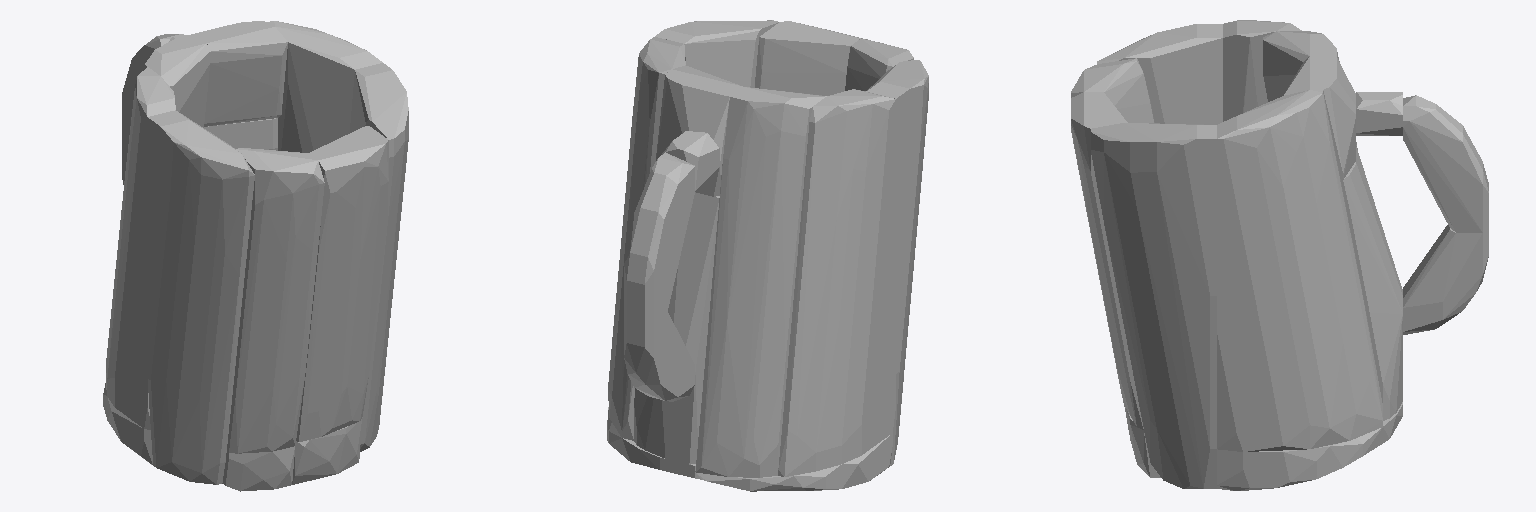
robot.urdf — root:
<robot name="root">
  <link name="link_dcec634f18e12427c2c72e575af174cd_convex_piece_0">
    <inertial>
      <origin rpy="0 0 0" xyz="0 0 0"/>
      <mass value="1.44E-07"/>
      <inertia ixx="4.86E-11" ixy="7.76E-13" ixz="-1.61E-13" iyy="2.53E-12" iyz="-6.36E-12" izz="4.65E-11"/>
    </inertial>
    <visual>
      <origin rpy="0 0 0" xyz="0 0 0"/>
      <geometry>
        <mesh filename="dcec634f18e12427c2c72e575af174cd_convex_piece_0.obj" scale="1.0000E+00"/>
      </geometry>
      <material name="">
        <color rgba="7.50E-01 7.50E-01 7.50E-01 1"/>
      </material>
    </visual>
    <collision>
      <origin rpy="0 0 0" xyz="0 0 0"/>
      <geometry>
        <mesh filename="dcec634f18e12427c2c72e575af174cd_convex_piece_0.obj" scale="1.0000E+00"/>
      </geometry>
    </collision>
  </link>
  <link name="link_dcec634f18e12427c2c72e575af174cd_convex_piece_1">
    <inertial>
      <origin rpy="0 0 0" xyz="0 0 0"/>
      <mass value="1.64E-07"/>
      <inertia ixx="7.62E-11" ixy="5.94E-13" ixz="4.27E-13" iyy="2.34E-11" iyz="3.22E-11" izz="5.33E-11"/>
    </inertial>
    <visual>
      <origin rpy="0 0 0" xyz="0 0 0"/>
      <geometry>
        <mesh filename="dcec634f18e12427c2c72e575af174cd_convex_piece_1.obj" scale="1.0000E+00"/>
      </geometry>
      <material name="">
        <color rgba="7.50E-01 7.50E-01 7.50E-01 1"/>
      </material>
    </visual>
    <collision>
      <origin rpy="0 0 0" xyz="0 0 0"/>
      <geometry>
        <mesh filename="dcec634f18e12427c2c72e575af174cd_convex_piece_1.obj" scale="1.0000E+00"/>
      </geometry>
    </collision>
  </link>
  <joint name="link_dcec634f18e12427c2c72e575af174cd_convex_piece_1_joint" type="fixed">
    <origin rpy="0 0 0" xyz="0 0 0"/>
    <parent link="link_dcec634f18e12427c2c72e575af174cd_convex_piece_0"/>
    <child link="link_dcec634f18e12427c2c72e575af174cd_convex_piece_1"/>
  </joint>
  <link name="link_dcec634f18e12427c2c72e575af174cd_convex_piece_2">
    <inertial>
      <origin rpy="0 0 0" xyz="0 0 0"/>
      <mass value="8.98E-07"/>
      <inertia ixx="2.29E-10" ixy="1.11E-10" ixz="-2.24E-11" iyy="2.51E-10" iyz="-3.04E-11" izz="2.22E-10"/>
    </inertial>
    <visual>
      <origin rpy="0 0 0" xyz="0 0 0"/>
      <geometry>
        <mesh filename="dcec634f18e12427c2c72e575af174cd_convex_piece_2.obj" scale="1.0000E+00"/>
      </geometry>
      <material name="">
        <color rgba="7.50E-01 7.50E-01 7.50E-01 1"/>
      </material>
    </visual>
    <collision>
      <origin rpy="0 0 0" xyz="0 0 0"/>
      <geometry>
        <mesh filename="dcec634f18e12427c2c72e575af174cd_convex_piece_2.obj" scale="1.0000E+00"/>
      </geometry>
    </collision>
  </link>
  <joint name="link_dcec634f18e12427c2c72e575af174cd_convex_piece_2_joint" type="fixed">
    <origin rpy="0 0 0" xyz="0 0 0"/>
    <parent link="link_dcec634f18e12427c2c72e575af174cd_convex_piece_1"/>
    <child link="link_dcec634f18e12427c2c72e575af174cd_convex_piece_2"/>
  </joint>
  <link name="link_dcec634f18e12427c2c72e575af174cd_convex_piece_3">
    <inertial>
      <origin rpy="0 0 0" xyz="0 0 0"/>
      <mass value="3.14E-07"/>
      <inertia ixx="1.19E-10" ixy="-1.77E-12" ixz="4.87E-11" iyy="1.41E-10" iyz="-7.18E-12" izz="2.76E-11"/>
    </inertial>
    <visual>
      <origin rpy="0 0 0" xyz="0 0 0"/>
      <geometry>
        <mesh filename="dcec634f18e12427c2c72e575af174cd_convex_piece_3.obj" scale="1.0000E+00"/>
      </geometry>
      <material name="">
        <color rgba="7.50E-01 7.50E-01 7.50E-01 1"/>
      </material>
    </visual>
    <collision>
      <origin rpy="0 0 0" xyz="0 0 0"/>
      <geometry>
        <mesh filename="dcec634f18e12427c2c72e575af174cd_convex_piece_3.obj" scale="1.0000E+00"/>
      </geometry>
    </collision>
  </link>
  <joint name="link_dcec634f18e12427c2c72e575af174cd_convex_piece_3_joint" type="fixed">
    <origin rpy="0 0 0" xyz="0 0 0"/>
    <parent link="link_dcec634f18e12427c2c72e575af174cd_convex_piece_2"/>
    <child link="link_dcec634f18e12427c2c72e575af174cd_convex_piece_3"/>
  </joint>
  <link name="link_dcec634f18e12427c2c72e575af174cd_convex_piece_4">
    <inertial>
      <origin rpy="0 0 0" xyz="0 0 0"/>
      <mass value="1.05E-06"/>
      <inertia ixx="2.86E-10" ixy="-1.30E-10" ixz="2.20E-11" iyy="2.77E-10" iyz="-3.31E-11" izz="2.64E-10"/>
    </inertial>
    <visual>
      <origin rpy="0 0 0" xyz="0 0 0"/>
      <geometry>
        <mesh filename="dcec634f18e12427c2c72e575af174cd_convex_piece_4.obj" scale="1.0000E+00"/>
      </geometry>
      <material name="">
        <color rgba="7.50E-01 7.50E-01 7.50E-01 1"/>
      </material>
    </visual>
    <collision>
      <origin rpy="0 0 0" xyz="0 0 0"/>
      <geometry>
        <mesh filename="dcec634f18e12427c2c72e575af174cd_convex_piece_4.obj" scale="1.0000E+00"/>
      </geometry>
    </collision>
  </link>
  <joint name="link_dcec634f18e12427c2c72e575af174cd_convex_piece_4_joint" type="fixed">
    <origin rpy="0 0 0" xyz="0 0 0"/>
    <parent link="link_dcec634f18e12427c2c72e575af174cd_convex_piece_3"/>
    <child link="link_dcec634f18e12427c2c72e575af174cd_convex_piece_4"/>
  </joint>
  <link name="link_dcec634f18e12427c2c72e575af174cd_convex_piece_5">
    <inertial>
      <origin rpy="0 0 0" xyz="0 0 0"/>
      <mass value="5.14E-07"/>
      <inertia ixx="1.91E-10" ixy="1.56E-12" ixz="-6.32E-11" iyy="2.16E-10" iyz="-1.27E-11" izz="3.98E-11"/>
    </inertial>
    <visual>
      <origin rpy="0 0 0" xyz="0 0 0"/>
      <geometry>
        <mesh filename="dcec634f18e12427c2c72e575af174cd_convex_piece_5.obj" scale="1.0000E+00"/>
      </geometry>
      <material name="">
        <color rgba="7.50E-01 7.50E-01 7.50E-01 1"/>
      </material>
    </visual>
    <collision>
      <origin rpy="0 0 0" xyz="0 0 0"/>
      <geometry>
        <mesh filename="dcec634f18e12427c2c72e575af174cd_convex_piece_5.obj" scale="1.0000E+00"/>
      </geometry>
    </collision>
  </link>
  <joint name="link_dcec634f18e12427c2c72e575af174cd_convex_piece_5_joint" type="fixed">
    <origin rpy="0 0 0" xyz="0 0 0"/>
    <parent link="link_dcec634f18e12427c2c72e575af174cd_convex_piece_4"/>
    <child link="link_dcec634f18e12427c2c72e575af174cd_convex_piece_5"/>
  </joint>
  <link name="link_dcec634f18e12427c2c72e575af174cd_convex_piece_6">
    <inertial>
      <origin rpy="0 0 0" xyz="0 0 0"/>
      <mass value="1.36E-07"/>
      <inertia ixx="7.49E-11" ixy="8.01E-12" ixz="1.46E-11" iyy="6.24E-11" iyz="3.18E-11" izz="2.10E-11"/>
    </inertial>
    <visual>
      <origin rpy="0 0 0" xyz="0 0 0"/>
      <geometry>
        <mesh filename="dcec634f18e12427c2c72e575af174cd_convex_piece_6.obj" scale="1.0000E+00"/>
      </geometry>
      <material name="">
        <color rgba="7.50E-01 7.50E-01 7.50E-01 1"/>
      </material>
    </visual>
    <collision>
      <origin rpy="0 0 0" xyz="0 0 0"/>
      <geometry>
        <mesh filename="dcec634f18e12427c2c72e575af174cd_convex_piece_6.obj" scale="1.0000E+00"/>
      </geometry>
    </collision>
  </link>
  <joint name="link_dcec634f18e12427c2c72e575af174cd_convex_piece_6_joint" type="fixed">
    <origin rpy="0 0 0" xyz="0 0 0"/>
    <parent link="link_dcec634f18e12427c2c72e575af174cd_convex_piece_5"/>
    <child link="link_dcec634f18e12427c2c72e575af174cd_convex_piece_6"/>
  </joint>
  <link name="link_dcec634f18e12427c2c72e575af174cd_convex_piece_7">
    <inertial>
      <origin rpy="0 0 0" xyz="0 0 0"/>
      <mass value="7.62E-07"/>
      <inertia ixx="2.82E-10" ixy="6.74E-11" ixz="-1.92E-12" iyy="1.13E-10" iyz="-2.17E-11" izz="2.22E-10"/>
    </inertial>
    <visual>
      <origin rpy="0 0 0" xyz="0 0 0"/>
      <geometry>
        <mesh filename="dcec634f18e12427c2c72e575af174cd_convex_piece_7.obj" scale="1.0000E+00"/>
      </geometry>
      <material name="">
        <color rgba="7.50E-01 7.50E-01 7.50E-01 1"/>
      </material>
    </visual>
    <collision>
      <origin rpy="0 0 0" xyz="0 0 0"/>
      <geometry>
        <mesh filename="dcec634f18e12427c2c72e575af174cd_convex_piece_7.obj" scale="1.0000E+00"/>
      </geometry>
    </collision>
  </link>
  <joint name="link_dcec634f18e12427c2c72e575af174cd_convex_piece_7_joint" type="fixed">
    <origin rpy="0 0 0" xyz="0 0 0"/>
    <parent link="link_dcec634f18e12427c2c72e575af174cd_convex_piece_6"/>
    <child link="link_dcec634f18e12427c2c72e575af174cd_convex_piece_7"/>
  </joint>
  <link name="link_dcec634f18e12427c2c72e575af174cd_convex_piece_8">
    <inertial>
      <origin rpy="0 0 0" xyz="0 0 0"/>
      <mass value="9.49E-07"/>
      <inertia ixx="1.15E-10" ixy="7.56E-12" ixz="3.37E-13" iyy="2.55E-10" iyz="-1.14E-11" izz="1.37E-10"/>
    </inertial>
    <visual>
      <origin rpy="0 0 0" xyz="0 0 0"/>
      <geometry>
        <mesh filename="dcec634f18e12427c2c72e575af174cd_convex_piece_8.obj" scale="1.0000E+00"/>
      </geometry>
      <material name="">
        <color rgba="7.50E-01 7.50E-01 7.50E-01 1"/>
      </material>
    </visual>
    <collision>
      <origin rpy="0 0 0" xyz="0 0 0"/>
      <geometry>
        <mesh filename="dcec634f18e12427c2c72e575af174cd_convex_piece_8.obj" scale="1.0000E+00"/>
      </geometry>
    </collision>
  </link>
  <joint name="link_dcec634f18e12427c2c72e575af174cd_convex_piece_8_joint" type="fixed">
    <origin rpy="0 0 0" xyz="0 0 0"/>
    <parent link="link_dcec634f18e12427c2c72e575af174cd_convex_piece_7"/>
    <child link="link_dcec634f18e12427c2c72e575af174cd_convex_piece_8"/>
  </joint>
  <link name="link_dcec634f18e12427c2c72e575af174cd_convex_piece_9">
    <inertial>
      <origin rpy="0 0 0" xyz="0 0 0"/>
      <mass value="9.55E-07"/>
      <inertia ixx="1.62E-10" ixy="-3.14E-11" ixz="-1.49E-11" iyy="1.72E-10" iyz="-8.57E-12" izz="6.67E-11"/>
    </inertial>
    <visual>
      <origin rpy="0 0 0" xyz="0 0 0"/>
      <geometry>
        <mesh filename="dcec634f18e12427c2c72e575af174cd_convex_piece_9.obj" scale="1.0000E+00"/>
      </geometry>
      <material name="">
        <color rgba="7.50E-01 7.50E-01 7.50E-01 1"/>
      </material>
    </visual>
    <collision>
      <origin rpy="0 0 0" xyz="0 0 0"/>
      <geometry>
        <mesh filename="dcec634f18e12427c2c72e575af174cd_convex_piece_9.obj" scale="1.0000E+00"/>
      </geometry>
    </collision>
  </link>
  <joint name="link_dcec634f18e12427c2c72e575af174cd_convex_piece_9_joint" type="fixed">
    <origin rpy="0 0 0" xyz="0 0 0"/>
    <parent link="link_dcec634f18e12427c2c72e575af174cd_convex_piece_8"/>
    <child link="link_dcec634f18e12427c2c72e575af174cd_convex_piece_9"/>
  </joint>
  <link name="link_dcec634f18e12427c2c72e575af174cd_convex_piece_10">
    <inertial>
      <origin rpy="0 0 0" xyz="0 0 0"/>
      <mass value="2.01E-07"/>
      <inertia ixx="1.12E-10" ixy="-6.83E-12" ixz="-1.17E-11" iyy="8.68E-11" iyz="4.92E-11" izz="3.10E-11"/>
    </inertial>
    <visual>
      <origin rpy="0 0 0" xyz="0 0 0"/>
      <geometry>
        <mesh filename="dcec634f18e12427c2c72e575af174cd_convex_piece_10.obj" scale="1.0000E+00"/>
      </geometry>
      <material name="">
        <color rgba="7.50E-01 7.50E-01 7.50E-01 1"/>
      </material>
    </visual>
    <collision>
      <origin rpy="0 0 0" xyz="0 0 0"/>
      <geometry>
        <mesh filename="dcec634f18e12427c2c72e575af174cd_convex_piece_10.obj" scale="1.0000E+00"/>
      </geometry>
    </collision>
  </link>
  <joint name="link_dcec634f18e12427c2c72e575af174cd_convex_piece_10_joint" type="fixed">
    <origin rpy="0 0 0" xyz="0 0 0"/>
    <parent link="link_dcec634f18e12427c2c72e575af174cd_convex_piece_9"/>
    <child link="link_dcec634f18e12427c2c72e575af174cd_convex_piece_10"/>
  </joint>
  <link name="link_dcec634f18e12427c2c72e575af174cd_convex_piece_11">
    <inertial>
      <origin rpy="0 0 0" xyz="0 0 0"/>
      <mass value="9.13E-07"/>
      <inertia ixx="3.55E-10" ixy="-4.77E-11" ixz="2.14E-12" iyy="1.14E-10" iyz="-2.98E-11" izz="2.73E-10"/>
    </inertial>
    <visual>
      <origin rpy="0 0 0" xyz="0 0 0"/>
      <geometry>
        <mesh filename="dcec634f18e12427c2c72e575af174cd_convex_piece_11.obj" scale="1.0000E+00"/>
      </geometry>
      <material name="">
        <color rgba="7.50E-01 7.50E-01 7.50E-01 1"/>
      </material>
    </visual>
    <collision>
      <origin rpy="0 0 0" xyz="0 0 0"/>
      <geometry>
        <mesh filename="dcec634f18e12427c2c72e575af174cd_convex_piece_11.obj" scale="1.0000E+00"/>
      </geometry>
    </collision>
  </link>
  <joint name="link_dcec634f18e12427c2c72e575af174cd_convex_piece_11_joint" type="fixed">
    <origin rpy="0 0 0" xyz="0 0 0"/>
    <parent link="link_dcec634f18e12427c2c72e575af174cd_convex_piece_10"/>
    <child link="link_dcec634f18e12427c2c72e575af174cd_convex_piece_11"/>
  </joint>
  <link name="link_dcec634f18e12427c2c72e575af174cd_convex_piece_12">
    <inertial>
      <origin rpy="0 0 0" xyz="0 0 0"/>
      <mass value="1.50E-06"/>
      <inertia ixx="1.85E-10" ixy="-1.12E-12" ixz="1.25E-11" iyy="3.67E-10" iyz="-1.73E-11" izz="1.89E-10"/>
    </inertial>
    <visual>
      <origin rpy="0 0 0" xyz="0 0 0"/>
      <geometry>
        <mesh filename="dcec634f18e12427c2c72e575af174cd_convex_piece_12.obj" scale="1.0000E+00"/>
      </geometry>
      <material name="">
        <color rgba="7.50E-01 7.50E-01 7.50E-01 1"/>
      </material>
    </visual>
    <collision>
      <origin rpy="0 0 0" xyz="0 0 0"/>
      <geometry>
        <mesh filename="dcec634f18e12427c2c72e575af174cd_convex_piece_12.obj" scale="1.0000E+00"/>
      </geometry>
    </collision>
  </link>
  <joint name="link_dcec634f18e12427c2c72e575af174cd_convex_piece_12_joint" type="fixed">
    <origin rpy="0 0 0" xyz="0 0 0"/>
    <parent link="link_dcec634f18e12427c2c72e575af174cd_convex_piece_11"/>
    <child link="link_dcec634f18e12427c2c72e575af174cd_convex_piece_12"/>
  </joint>
  <link name="link_dcec634f18e12427c2c72e575af174cd_convex_piece_13">
    <inertial>
      <origin rpy="0 0 0" xyz="0 0 0"/>
      <mass value="7.38E-07"/>
      <inertia ixx="9.84E-11" ixy="1.54E-11" ixz="-4.38E-12" iyy="6.10E-11" iyz="-2.46E-11" izz="5.65E-11"/>
    </inertial>
    <visual>
      <origin rpy="0 0 0" xyz="0 0 0"/>
      <geometry>
        <mesh filename="dcec634f18e12427c2c72e575af174cd_convex_piece_13.obj" scale="1.0000E+00"/>
      </geometry>
      <material name="">
        <color rgba="7.50E-01 7.50E-01 7.50E-01 1"/>
      </material>
    </visual>
    <collision>
      <origin rpy="0 0 0" xyz="0 0 0"/>
      <geometry>
        <mesh filename="dcec634f18e12427c2c72e575af174cd_convex_piece_13.obj" scale="1.0000E+00"/>
      </geometry>
    </collision>
  </link>
  <joint name="link_dcec634f18e12427c2c72e575af174cd_convex_piece_13_joint" type="fixed">
    <origin rpy="0 0 0" xyz="0 0 0"/>
    <parent link="link_dcec634f18e12427c2c72e575af174cd_convex_piece_12"/>
    <child link="link_dcec634f18e12427c2c72e575af174cd_convex_piece_13"/>
  </joint>
  <link name="link_dcec634f18e12427c2c72e575af174cd_convex_piece_14">
    <inertial>
      <origin rpy="0 0 0" xyz="0 0 0"/>
      <mass value="2.53E-07"/>
      <inertia ixx="8.50E-11" ixy="2.93E-12" ixz="1.21E-11" iyy="8.54E-11" iyz="2.06E-11" izz="6.29E-12"/>
    </inertial>
    <visual>
      <origin rpy="0 0 0" xyz="0 0 0"/>
      <geometry>
        <mesh filename="dcec634f18e12427c2c72e575af174cd_convex_piece_14.obj" scale="1.0000E+00"/>
      </geometry>
      <material name="">
        <color rgba="7.50E-01 7.50E-01 7.50E-01 1"/>
      </material>
    </visual>
    <collision>
      <origin rpy="0 0 0" xyz="0 0 0"/>
      <geometry>
        <mesh filename="dcec634f18e12427c2c72e575af174cd_convex_piece_14.obj" scale="1.0000E+00"/>
      </geometry>
    </collision>
  </link>
  <joint name="link_dcec634f18e12427c2c72e575af174cd_convex_piece_14_joint" type="fixed">
    <origin rpy="0 0 0" xyz="0 0 0"/>
    <parent link="link_dcec634f18e12427c2c72e575af174cd_convex_piece_13"/>
    <child link="link_dcec634f18e12427c2c72e575af174cd_convex_piece_14"/>
  </joint>
  <link name="link_dcec634f18e12427c2c72e575af174cd_convex_piece_15">
    <inertial>
      <origin rpy="0 0 0" xyz="0 0 0"/>
      <mass value="4.33E-08"/>
      <inertia ixx="1.77E-11" ixy="2.12E-13" ixz="3.42E-13" iyy="1.32E-11" iyz="8.11E-12" izz="4.69E-12"/>
    </inertial>
    <visual>
      <origin rpy="0 0 0" xyz="0 0 0"/>
      <geometry>
        <mesh filename="dcec634f18e12427c2c72e575af174cd_convex_piece_15.obj" scale="1.0000E+00"/>
      </geometry>
      <material name="">
        <color rgba="7.50E-01 7.50E-01 7.50E-01 1"/>
      </material>
    </visual>
    <collision>
      <origin rpy="0 0 0" xyz="0 0 0"/>
      <geometry>
        <mesh filename="dcec634f18e12427c2c72e575af174cd_convex_piece_15.obj" scale="1.0000E+00"/>
      </geometry>
    </collision>
  </link>
  <joint name="link_dcec634f18e12427c2c72e575af174cd_convex_piece_15_joint" type="fixed">
    <origin rpy="0 0 0" xyz="0 0 0"/>
    <parent link="link_dcec634f18e12427c2c72e575af174cd_convex_piece_14"/>
    <child link="link_dcec634f18e12427c2c72e575af174cd_convex_piece_15"/>
  </joint>
</robot>

--- What the picture shows (computed from the rendered views, not written in the file) ---
Views: 3 orthographic renders of the robot side by side, from view 1: azimuth 30°, elevation 25°; view 2: azimuth 150°, elevation 25°; view 3: azimuth 270°, elevation 25°.
Model root with 16 links and 15 joints (15 fixed), rooted at link_dcec634f18e12427c2c72e575af174cd_convex_piece_0, posed all joints at 0.
Visible links, largest first — view 1: link_dcec634f18e12427c2c72e575af174cd_convex_piece_2, link_dcec634f18e12427c2c72e575af174cd_convex_piece_7, link_dcec634f18e12427c2c72e575af174cd_convex_piece_11, link_dcec634f18e12427c2c72e575af174cd_convex_piece_8, link_dcec634f18e12427c2c72e575af174cd_convex_piece_12, link_dcec634f18e12427c2c72e575af174cd_convex_piece_4, link_dcec634f18e12427c2c72e575af174cd_convex_piece_14, link_dcec634f18e12427c2c72e575af174cd_convex_piece_9, link_dcec634f18e12427c2c72e575af174cd_convex_piece_10, link_dcec634f18e12427c2c72e575af174cd_convex_piece_6, link_dcec634f18e12427c2c72e575af174cd_convex_piece_13, link_dcec634f18e12427c2c72e575af174cd_convex_piece_3 (+1 smaller); view 2: link_dcec634f18e12427c2c72e575af174cd_convex_piece_8, link_dcec634f18e12427c2c72e575af174cd_convex_piece_9, link_dcec634f18e12427c2c72e575af174cd_convex_piece_13, link_dcec634f18e12427c2c72e575af174cd_convex_piece_1, link_dcec634f18e12427c2c72e575af174cd_convex_piece_2, link_dcec634f18e12427c2c72e575af174cd_convex_piece_12, link_dcec634f18e12427c2c72e575af174cd_convex_piece_11, link_dcec634f18e12427c2c72e575af174cd_convex_piece_14, link_dcec634f18e12427c2c72e575af174cd_convex_piece_0, link_dcec634f18e12427c2c72e575af174cd_convex_piece_4, link_dcec634f18e12427c2c72e575af174cd_convex_piece_3, link_dcec634f18e12427c2c72e575af174cd_convex_piece_7 (+2 smaller); view 3: link_dcec634f18e12427c2c72e575af174cd_convex_piece_12, link_dcec634f18e12427c2c72e575af174cd_convex_piece_4, link_dcec634f18e12427c2c72e575af174cd_convex_piece_2, link_dcec634f18e12427c2c72e575af174cd_convex_piece_13, link_dcec634f18e12427c2c72e575af174cd_convex_piece_1, link_dcec634f18e12427c2c72e575af174cd_convex_piece_11, link_dcec634f18e12427c2c72e575af174cd_convex_piece_0, link_dcec634f18e12427c2c72e575af174cd_convex_piece_5, link_dcec634f18e12427c2c72e575af174cd_convex_piece_8, link_dcec634f18e12427c2c72e575af174cd_convex_piece_14, link_dcec634f18e12427c2c72e575af174cd_convex_piece_7, link_dcec634f18e12427c2c72e575af174cd_convex_piece_9 (+2 smaller).
Boxes of the visible links, x1,y1,x2,y2 form: link_dcec634f18e12427c2c72e575af174cd_convex_piece_2: [148, 110, 254, 484]; link_dcec634f18e12427c2c72e575af174cd_convex_piece_7: [227, 148, 324, 453]; link_dcec634f18e12427c2c72e575af174cd_convex_piece_11: [296, 126, 388, 441]; link_dcec634f18e12427c2c72e575af174cd_convex_piece_8: [106, 67, 175, 429]; link_dcec634f18e12427c2c72e575af174cd_convex_piece_12: [269, 21, 382, 152]; link_dcec634f18e12427c2c72e575af174cd_convex_piece_4: [350, 63, 408, 451]; link_dcec634f18e12427c2c72e575af174cd_convex_piece_14: [195, 21, 287, 126]; link_dcec634f18e12427c2c72e575af174cd_convex_piece_9: [144, 34, 209, 127]; link_dcec634f18e12427c2c72e575af174cd_convex_piece_10: [292, 417, 362, 484]; link_dcec634f18e12427c2c72e575af174cd_convex_piece_6: [222, 446, 294, 491]; link_dcec634f18e12427c2c72e575af174cd_convex_piece_13: [204, 118, 277, 150]; link_dcec634f18e12427c2c72e575af174cd_convex_piece_3: [103, 383, 152, 464]; link_dcec634f18e12427c2c72e575af174cd_convex_piece_8: [778, 89, 895, 476]; link_dcec634f18e12427c2c72e575af174cd_convex_piece_9: [695, 87, 826, 477]; link_dcec634f18e12427c2c72e575af174cd_convex_piece_13: [634, 192, 719, 464]; link_dcec634f18e12427c2c72e575af174cd_convex_piece_1: [624, 152, 694, 321]; link_dcec634f18e12427c2c72e575af174cd_convex_piece_2: [866, 60, 928, 465]; link_dcec634f18e12427c2c72e575af174cd_convex_piece_12: [608, 37, 685, 440]; link_dcec634f18e12427c2c72e575af174cd_convex_piece_11: [755, 21, 867, 95]; link_dcec634f18e12427c2c72e575af174cd_convex_piece_14: [656, 65, 742, 196]; link_dcec634f18e12427c2c72e575af174cd_convex_piece_0: [624, 311, 694, 401]; link_dcec634f18e12427c2c72e575af174cd_convex_piece_4: [655, 20, 778, 87]; link_dcec634f18e12427c2c72e575af174cd_convex_piece_3: [696, 433, 892, 491]; link_dcec634f18e12427c2c72e575af174cd_convex_piece_7: [845, 39, 913, 90]; link_dcec634f18e12427c2c72e575af174cd_convex_piece_12: [1217, 90, 1382, 451]; link_dcec634f18e12427c2c72e575af174cd_convex_piece_4: [1091, 123, 1216, 488]; link_dcec634f18e12427c2c72e575af174cd_convex_piece_2: [1097, 24, 1222, 124]; link_dcec634f18e12427c2c72e575af174cd_convex_piece_13: [1341, 147, 1402, 420]; link_dcec634f18e12427c2c72e575af174cd_convex_piece_1: [1403, 95, 1488, 232]; link_dcec634f18e12427c2c72e575af174cd_convex_piece_11: [1071, 92, 1143, 429]; link_dcec634f18e12427c2c72e575af174cd_convex_piece_0: [1403, 225, 1488, 334]; link_dcec634f18e12427c2c72e575af174cd_convex_piece_5: [1217, 402, 1402, 490]; link_dcec634f18e12427c2c72e575af174cd_convex_piece_8: [1223, 20, 1301, 121]; link_dcec634f18e12427c2c72e575af174cd_convex_piece_14: [1284, 56, 1355, 179]; link_dcec634f18e12427c2c72e575af174cd_convex_piece_7: [1071, 58, 1154, 122]; link_dcec634f18e12427c2c72e575af174cd_convex_piece_9: [1263, 31, 1357, 149].
Size in the robot's own frame: 0.0298 by 0.0458 by 0.0465 metres.
Meshes: 16 distinct files referenced, 16 mesh visuals loaded (16 OBJ).